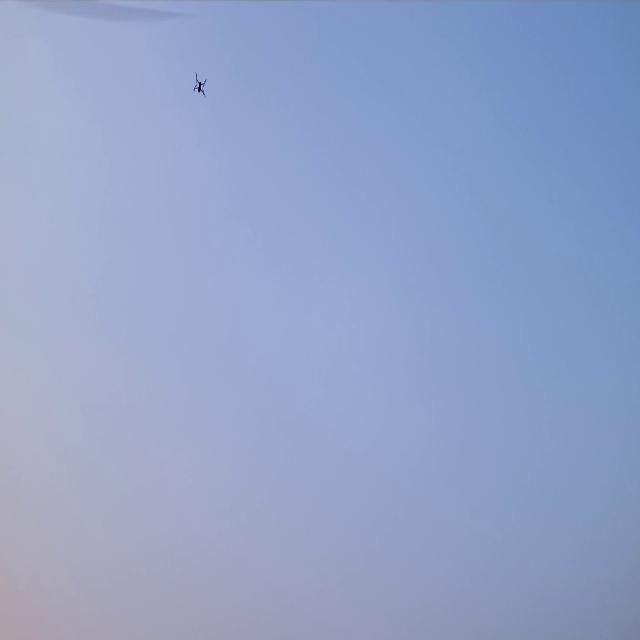UAV: (191, 70, 208, 99)
